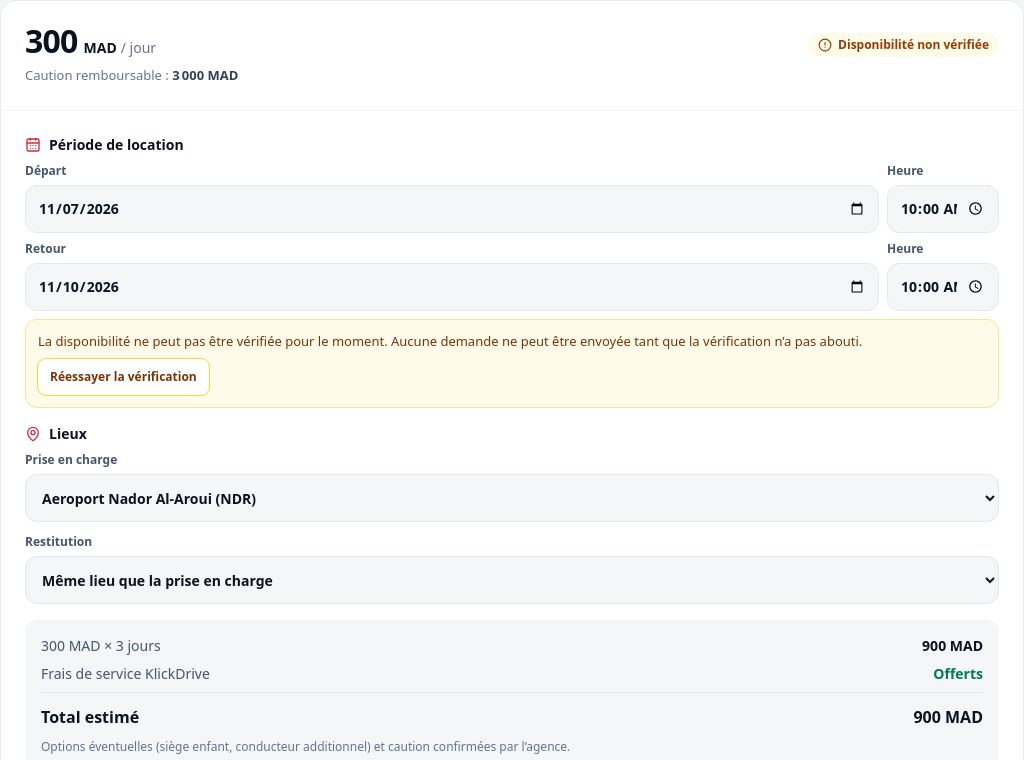
BookingCard — disponibilité en trois états (fail-closed) › UNKNOWN (503) : « non vérifiée », jamais « disponible », relance possible
The width and height of the screenshot is (1024, 760).
Expected: the text "Disponible pour ces dates" is not shown
Click the button. click: (123, 377)
box: [38,359,209,395]
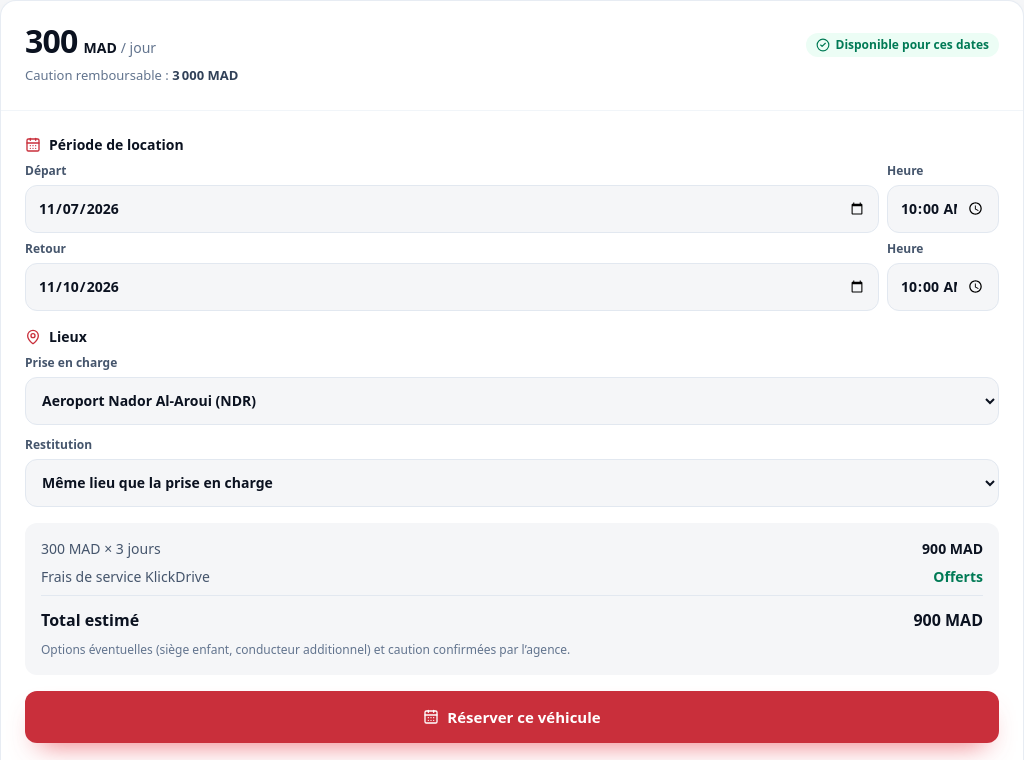
Expected: the text "Disponible pour ces dates" is shown, [806,33,999,57]
